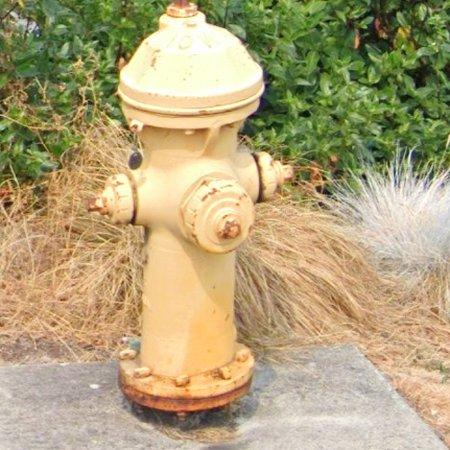a fire hydrant: (89, 0, 294, 413)
